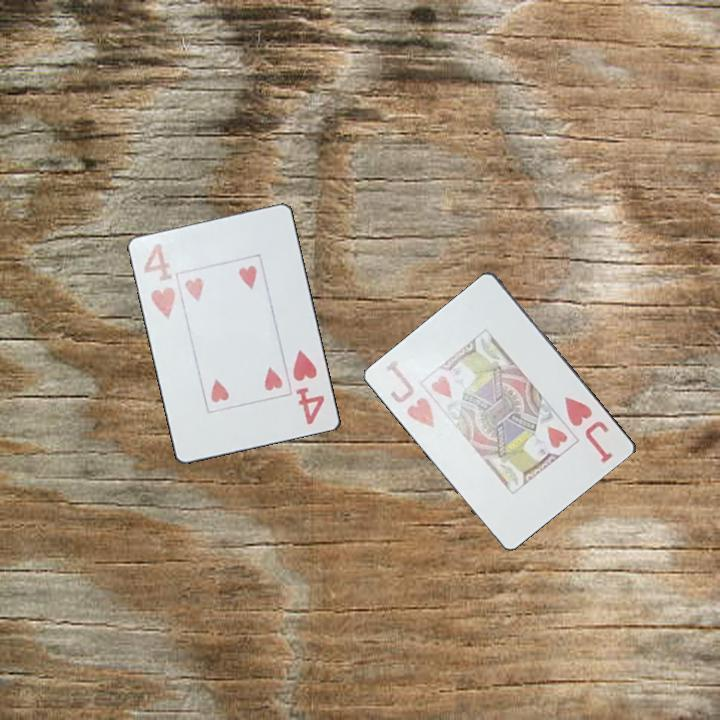4h: (290, 346, 329, 428), (140, 240, 179, 322)
Jh: (561, 393, 617, 466), (383, 357, 438, 431)
